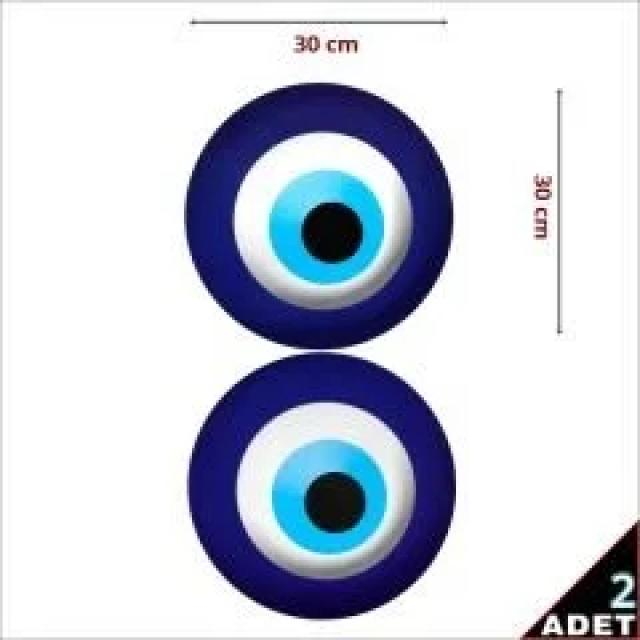Nazar-Boncugu: (181, 80, 456, 352), (187, 355, 459, 621)
